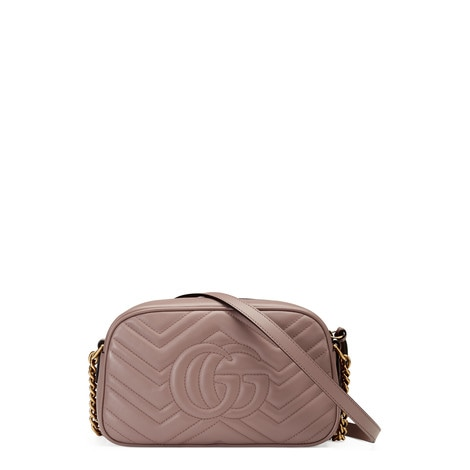Gucci: (90, 278, 355, 458), (160, 336, 276, 425)
